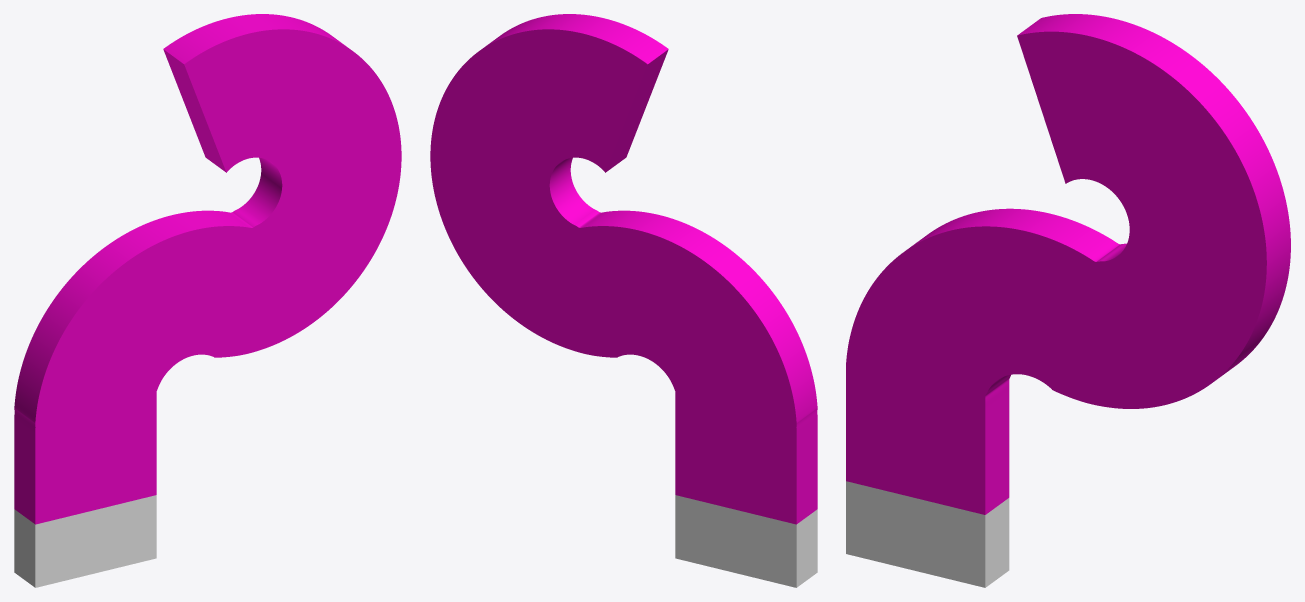
The model's file is serial_test_example_fn_std-sketch-sweep11_output.glb.
3 views of the same model, side by side, from view 1: azimuth 30°, elevation 25°; view 2: azimuth 150°, elevation 25°; view 3: azimuth 330°, elevation 25° (orthographic). The views are drawn at different scales.
Size of the model in its own units: 0.0302 by 0.0396 by 0.003.
